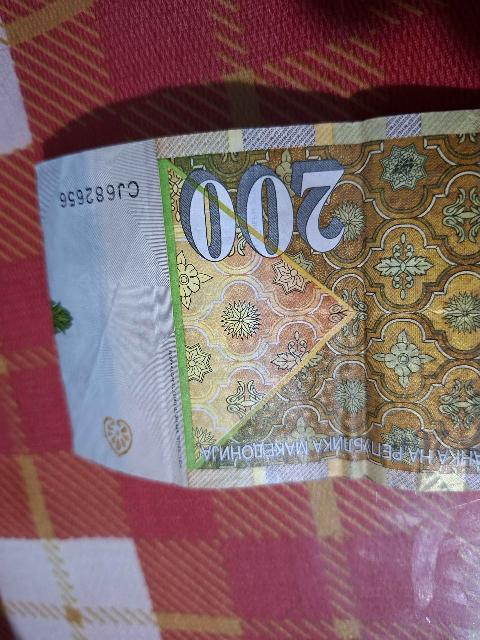200_note: (39, 112, 479, 489)
